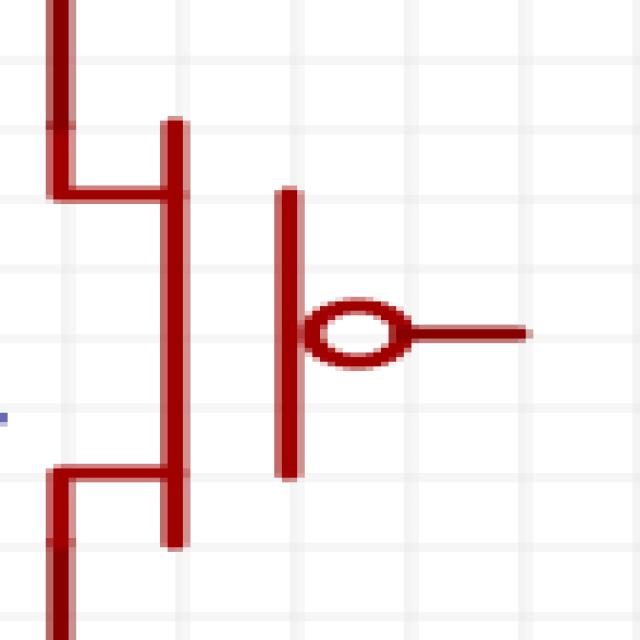pmos: (14, 39, 613, 633)
